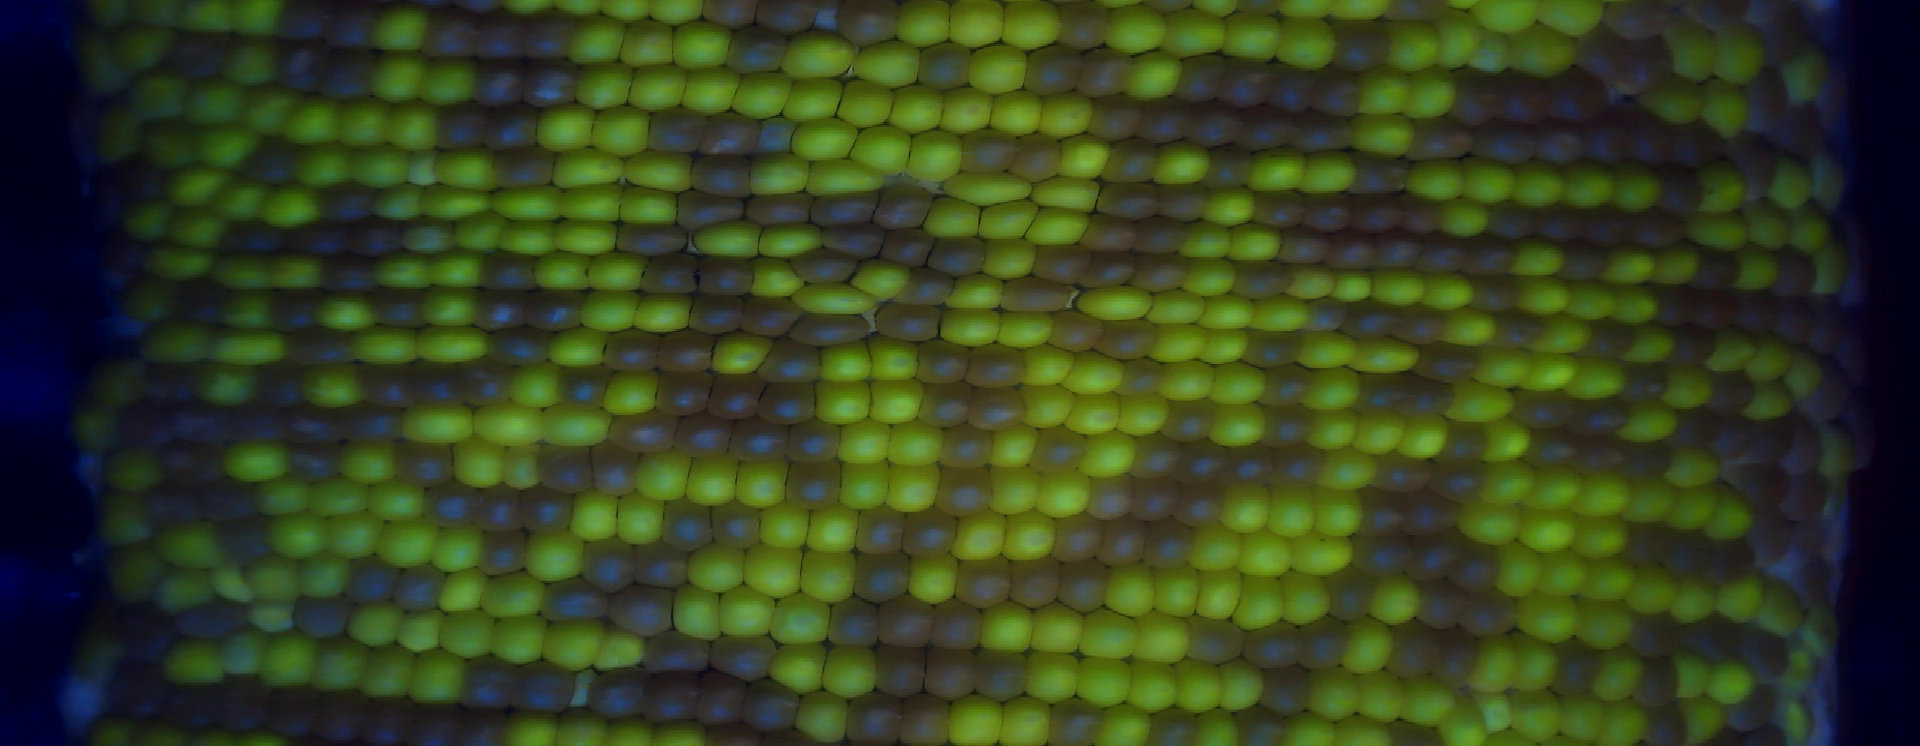fluorescent: (778, 31, 858, 80), (133, 321, 220, 366), (69, 24, 121, 98), (768, 590, 834, 647), (767, 639, 834, 695), (729, 69, 798, 121), (107, 538, 160, 605), (216, 36, 283, 88), (683, 543, 751, 595), (1158, 7, 1227, 59), (1276, 16, 1340, 71), (947, 507, 1011, 561), (522, 526, 587, 579), (1713, 21, 1769, 82), (853, 39, 922, 89), (540, 403, 613, 450), (72, 608, 119, 681), (1341, 617, 1401, 674), (377, 514, 438, 570), (742, 544, 804, 598), (718, 586, 780, 639), (804, 156, 887, 196), (207, 328, 291, 367), (309, 637, 367, 693), (633, 448, 693, 503), (967, 40, 1027, 96), (947, 692, 1008, 746), (546, 149, 627, 190), (471, 405, 550, 447), (157, 519, 227, 566), (1506, 29, 1580, 73), (1103, 6, 1169, 55), (1512, 153, 1572, 207), (1398, 675, 1458, 729), (998, 1, 1062, 51), (670, 22, 733, 72), (140, 245, 220, 284), (1695, 157, 1749, 216), (621, 153, 699, 194), (1636, 78, 1706, 124), (849, 254, 915, 301), (1513, 595, 1580, 643), (790, 281, 882, 315), (1571, 599, 1632, 650), (1053, 132, 1116, 183), (1460, 497, 1522, 548), (160, 163, 228, 209), (1349, 113, 1417, 159), (1461, 152, 1516, 208), (1123, 49, 1180, 103), (1031, 600, 1085, 658), (1611, 157, 1664, 216), (800, 552, 860, 604), (975, 601, 1035, 653), (420, 55, 481, 105), (1382, 22, 1444, 72), (678, 66, 740, 116), (114, 24, 176, 73), (301, 363, 365, 410), (942, 170, 1037, 202), (534, 104, 598, 152), (492, 610, 546, 666), (1172, 657, 1224, 714), (120, 194, 179, 245), (416, 323, 493, 363), (438, 610, 497, 661), (219, 441, 294, 481), (280, 96, 342, 145), (1783, 45, 1832, 107), (790, 119, 860, 162), (834, 419, 896, 467), (1562, 157, 1618, 211), (746, 152, 813, 196), (736, 454, 790, 510), (1280, 571, 1333, 626), (1307, 666, 1360, 722), (1075, 652, 1129, 707), (244, 85, 300, 137), (669, 588, 725, 641), (1082, 609, 1139, 661), (583, 247, 647, 294), (364, 478, 427, 524), (163, 639, 227, 686), (361, 644, 413, 702), (1522, 464, 1582, 513), (1518, 506, 1578, 555), (413, 646, 462, 706), (692, 220, 769, 258), (600, 369, 661, 416), (484, 572, 545, 620), (813, 379, 876, 425), (920, 190, 982, 236), (1404, 66, 1458, 120), (544, 619, 598, 673), (1480, 456, 1536, 508), (1233, 575, 1286, 630), (851, 125, 907, 176), (1103, 562, 1160, 614), (884, 462, 942, 512), (454, 431, 504, 489), (1134, 612, 1191, 663), (1468, 347, 1536, 390), (182, 78, 246, 124), (1031, 176, 1104, 216), (1153, 138, 1212, 187), (564, 489, 623, 538), (347, 597, 405, 646), (264, 628, 313, 687), (936, 306, 1007, 347), (1074, 287, 1155, 322), (573, 62, 638, 107), (193, 124, 262, 165), (622, 64, 691, 105), (910, 127, 961, 183), (1210, 397, 1265, 448), (1000, 508, 1056, 560), (688, 451, 740, 506), (1347, 336, 1419, 375), (867, 334, 923, 385), (593, 105, 649, 156), (190, 365, 260, 405), (1303, 147, 1360, 196), (1237, 528, 1294, 577), (1509, 635, 1558, 692), (822, 646, 879, 695), (129, 71, 187, 119), (711, 332, 775, 376), (1575, 472, 1633, 519), (1016, 382, 1076, 429), (1064, 391, 1124, 437), (885, 420, 947, 465), (978, 235, 1040, 281), (1221, 13, 1282, 59), (617, 18, 678, 64), (907, 552, 959, 606), (1026, 650, 1078, 704), (795, 690, 846, 744), (1062, 350, 1124, 394), (91, 109, 138, 167), (1668, 22, 1716, 80), (326, 512, 383, 560), (1216, 657, 1264, 714), (998, 697, 1056, 745), (263, 184, 322, 230), (348, 145, 411, 187), (398, 405, 478, 440), (267, 514, 331, 557), (1293, 330, 1360, 370), (891, 1, 951, 47), (1249, 149, 1309, 195), (1498, 537, 1543, 597), (987, 462, 1038, 514), (807, 503, 858, 556), (1434, 695, 1487, 746), (389, 99, 443, 149), (888, 82, 942, 132), (1509, 687, 1562, 737), (1356, 671, 1409, 722), (1129, 660, 1179, 714), (421, 285, 486, 327), (836, 462, 891, 511), (1704, 78, 1749, 140), (1187, 521, 1242, 570), (1092, 701, 1153, 745), (339, 98, 396, 146), (1036, 472, 1092, 519), (245, 554, 301, 601), (1351, 409, 1408, 456), (813, 337, 876, 380), (1709, 484, 1755, 543), (156, 571, 219, 612), (756, 220, 825, 258), (567, 17, 627, 61), (1113, 394, 1173, 439), (1371, 575, 1423, 626), (351, 326, 419, 365), (838, 77, 891, 126), (868, 379, 924, 425), (1768, 156, 1815, 212), (1566, 355, 1622, 402), (1319, 445, 1375, 491), (1195, 566, 1242, 622), (489, 185, 562, 220), (366, 56, 425, 100), (1447, 382, 1513, 421), (1157, 356, 1216, 401), (758, 501, 811, 550), (616, 185, 680, 225), (535, 249, 595, 292), (1472, 633, 1515, 693), (96, 492, 151, 539), (744, 256, 812, 294), (1528, 314, 1596, 352), (1079, 431, 1135, 477), (1147, 323, 1212, 363), (102, 452, 167, 491), (947, 1, 1004, 45), (1815, 418, 1858, 477), (291, 554, 350, 597), (1153, 565, 1202, 616), (1267, 485, 1315, 538), (1221, 483, 1269, 535), (1404, 160, 1471, 198), (1536, 1, 1602, 39), (785, 76, 839, 122), (1395, 414, 1449, 461), (506, 363, 566, 404), (436, 567, 491, 612), (120, 281, 184, 320), (141, 122, 197, 167), (1687, 209, 1749, 250), (418, 184, 492, 217), (580, 292, 645, 330), (1438, 307, 1502, 345), (1626, 563, 1675, 614), (1539, 546, 1588, 597), (615, 492, 664, 543), (1041, 89, 1092, 137), (1583, 554, 1635, 601), (370, 9, 429, 50), (1300, 366, 1359, 408), (1564, 277, 1618, 322), (1559, 696, 1613, 741), (432, 149, 501, 185), (552, 217, 618, 254), (334, 441, 400, 478), (1441, 9, 1482, 69), (309, 477, 369, 517), (316, 293, 380, 331), (1033, 206, 1090, 249), (1622, 401, 1679, 443), (1624, 475, 1680, 518), (1572, 514, 1629, 557), (497, 218, 558, 257), (560, 185, 621, 224), (991, 89, 1041, 137), (1664, 360, 1712, 410), (1712, 575, 1762, 622), (1594, 653, 1644, 701), (1144, 288, 1209, 325), (978, 201, 1037, 241), (1209, 365, 1267, 405), (217, 292, 279, 330), (636, 295, 696, 334), (996, 310, 1056, 349), (1360, 69, 1408, 118), (1177, 258, 1240, 295), (1678, 695, 1727, 742), (595, 624, 643, 673), (1746, 200, 1793, 250), (1671, 481, 1717, 533), (1671, 572, 1717, 624), (435, 526, 486, 571), (296, 143, 354, 184), (1522, 350, 1580, 391), (451, 209, 503, 254), (1480, 419, 1533, 463), (944, 274, 1011, 309), (1294, 535, 1353, 575), (1708, 326, 1756, 374), (253, 477, 310, 517), (1194, 327, 1253, 365), (1620, 325, 1679, 363), (1600, 243, 1656, 283), (1307, 408, 1357, 452), (1516, 276, 1572, 315), (501, 706, 557, 745), (1466, 1, 1540, 31), (1669, 443, 1722, 485), (1422, 269, 1476, 310), (943, 87, 991, 132), (1509, 236, 1564, 276), (1254, 294, 1313, 331), (1602, 701, 1651, 745), (1440, 198, 1491, 240), (375, 254, 435, 289), (1198, 293, 1258, 328), (1731, 245, 1777, 292), (1315, 490, 1360, 537), (1022, 342, 1070, 386), (1708, 663, 1756, 707), (216, 252, 271, 290), (272, 252, 327, 290), (1226, 223, 1281, 261), (1202, 187, 1258, 225), (1751, 332, 1791, 383), (1280, 712, 1340, 746), (1742, 379, 1788, 424), (1179, 220, 1233, 258), (1371, 269, 1429, 305), (545, 330, 606, 363), (1671, 649, 1711, 701), (556, 706, 607, 745), (1798, 605, 1837, 657), (429, 251, 485, 287), (501, 443, 545, 489), (1789, 205, 1829, 254), (228, 1, 285, 36), (1332, 717, 1398, 746), (1653, 240, 1696, 285), (992, 423, 1035, 468), (1611, 285, 1662, 323), (1813, 240, 1847, 298), (1778, 695, 1815, 746), (96, 363, 142, 403), (1788, 345, 1821, 401), (223, 181, 268, 220), (402, 611, 447, 650), (375, 184, 422, 220), (1195, 708, 1240, 746), (73, 408, 114, 450), (1477, 29, 1515, 73), (216, 563, 256, 604), (1477, 693, 1518, 733), (180, 1, 231, 32), (602, 717, 655, 746), (651, 718, 707, 745), (249, 601, 296, 632), (1330, 269, 1374, 303), (647, 1, 702, 26), (91, 715, 133, 746), (1331, 1, 1392, 22), (135, 720, 184, 746), (131, 1, 178, 27), (599, 1, 653, 23), (84, 1, 130, 27), (1275, 1, 1335, 20), (1784, 647, 1815, 682), (1484, 729, 1542, 746), (195, 729, 241, 746), (501, 1, 557, 15), (1189, 1, 1239, 16), (556, 1, 602, 15), (1545, 736, 1600, 746), (1103, 1, 1142, 7)
nonfluorescent: (1716, 454, 1791, 510), (585, 668, 658, 722), (609, 584, 680, 637), (509, 658, 572, 717), (118, 601, 178, 661), (822, 592, 883, 650), (953, 556, 1016, 611), (458, 655, 522, 710), (639, 671, 704, 725), (638, 630, 714, 675), (1386, 616, 1440, 680), (1614, 39, 1674, 96), (579, 535, 639, 592), (1446, 64, 1500, 126), (966, 380, 1030, 432), (1240, 619, 1305, 670), (1327, 16, 1393, 66), (394, 435, 460, 485), (842, 691, 902, 746), (756, 336, 823, 385), (534, 441, 595, 495), (1021, 44, 1085, 96), (1367, 448, 1435, 496), (1182, 615, 1247, 665), (606, 412, 682, 454), (644, 107, 714, 153), (1573, 22, 1630, 80), (973, 647, 1030, 704), (1044, 507, 1103, 562), (107, 664, 165, 719), (1498, 65, 1551, 125), (262, 685, 322, 739), (934, 464, 996, 517), (707, 633, 778, 679), (1599, 1, 1681, 40), (540, 578, 612, 622), (1053, 557, 1109, 614), (516, 7, 573, 62), (1548, 638, 1603, 696), (1138, 511, 1191, 570), (784, 457, 842, 511), (587, 439, 640, 497), (742, 677, 801, 731), (174, 600, 255, 639), (1411, 339, 1480, 385), (1456, 586, 1517, 637), (601, 325, 669, 371), (1551, 67, 1608, 122), (901, 503, 958, 559), (852, 546, 909, 601), (923, 644, 977, 702), (1682, 612, 1747, 660), (1239, 323, 1309, 367), (432, 100, 493, 151), (997, 274, 1075, 314), (632, 539, 694, 588), (874, 597, 937, 646), (1469, 118, 1537, 163), (1098, 137, 1162, 185), (964, 341, 1027, 388), (1296, 612, 1351, 668), (1449, 537, 1502, 593), (393, 559, 449, 612), (313, 688, 366, 746), (661, 492, 713, 551), (697, 670, 747, 730), (214, 673, 264, 733), (419, 9, 480, 58), (1391, 372, 1452, 421), (653, 330, 719, 375), (654, 367, 716, 415), (958, 131, 1025, 175), (525, 285, 593, 330), (1220, 54, 1272, 110), (322, 48, 378, 100), (1255, 664, 1311, 717), (637, 250, 702, 295), (140, 356, 204, 402), (484, 103, 544, 152), (1839, 303, 1873, 388), (808, 189, 883, 228), (911, 336, 972, 383), (280, 327, 360, 364), (727, 415, 793, 459), (898, 692, 951, 746), (1404, 530, 1460, 583), (710, 496, 763, 551), (160, 679, 217, 730), (754, 380, 822, 423), (1401, 491, 1464, 537), (1007, 131, 1067, 179), (144, 478, 204, 526), (1291, 107, 1356, 151), (1227, 258, 1296, 300), (932, 598, 984, 652), (115, 398, 170, 450), (219, 514, 274, 566), (358, 695, 413, 746), (1086, 96, 1149, 141), (1742, 621, 1788, 684), (1075, 47, 1131, 97), (1009, 554, 1059, 610), (1505, 387, 1575, 428), (702, 108, 760, 156), (1731, 135, 1776, 198), (1404, 118, 1472, 159), (486, 325, 553, 366), (1348, 370, 1408, 416), (673, 187, 747, 225), (152, 439, 217, 481), (876, 644, 927, 698), (1136, 93, 1191, 143), (707, 367, 762, 418), (407, 696, 462, 746), (1325, 562, 1374, 619), (1627, 608, 1684, 657), (835, 1, 898, 45), (1780, 464, 1828, 522), (1761, 10, 1807, 69), (411, 358, 470, 404), (691, 152, 754, 195), (787, 311, 873, 343), (673, 413, 737, 456), (876, 300, 943, 341), (295, 594, 355, 639), (478, 481, 530, 533), (473, 10, 527, 60), (852, 502, 906, 552), (478, 250, 542, 292), (367, 285, 432, 327), (787, 246, 861, 283), (1031, 239, 1092, 283), (1098, 317, 1160, 361), (354, 361, 415, 405), (1128, 431, 1183, 480), (1097, 511, 1146, 566), (202, 477, 263, 521), (917, 42, 973, 89), (727, 27, 784, 75), (742, 293, 798, 341), (1354, 481, 1402, 538), (1188, 100, 1245, 147), (1749, 507, 1791, 570), (1774, 292, 1820, 350), (252, 360, 311, 405), (424, 480, 482, 526), (1840, 391, 1876, 465), (1745, 71, 1787, 135), (1349, 537, 1413, 578), (1779, 104, 1823, 164), (519, 62, 579, 107), (279, 402, 339, 446), (1172, 51, 1224, 102), (1240, 102, 1296, 149), (493, 146, 555, 189), (924, 234, 989, 274), (786, 418, 842, 464), (1031, 426, 1087, 473), (1270, 442, 1326, 489), (820, 220, 889, 258), (694, 256, 757, 298), (1434, 419, 1493, 463), (277, 44, 327, 96), (522, 481, 572, 533), (1627, 657, 1680, 706), (168, 401, 228, 443), (1434, 628, 1477, 688), (1056, 1, 1111, 48), (1663, 403, 1718, 450), (1221, 441, 1276, 488), (1046, 699, 1101, 746), (887, 268, 961, 303), (1199, 145, 1255, 190), (1258, 363, 1314, 408), (613, 223, 691, 256), (1096, 179, 1161, 218), (169, 33, 227, 77), (1051, 307, 1108, 352), (873, 186, 936, 227), (1128, 251, 1190, 292), (1311, 66, 1362, 116), (1731, 287, 1780, 338), (173, 276, 225, 323), (920, 380, 972, 428), (1704, 530, 1752, 583), (1418, 576, 1466, 628), (1251, 186, 1311, 228), (471, 289, 531, 331), (1573, 320, 1637, 359), (223, 403, 287, 442), (473, 62, 529, 107), (1258, 402, 1314, 446), (334, 405, 407, 440), (1267, 64, 1318, 113), (245, 135, 296, 183), (1693, 281, 1741, 332), (1723, 684, 1776, 730), (1427, 457, 1489, 496), (269, 285, 323, 331), (1663, 526, 1708, 579), (344, 560, 399, 604), (1520, 431, 1580, 472), (1413, 232, 1469, 274), (1229, 706, 1291, 745), (744, 191, 814, 225), (558, 364, 610, 410), (940, 423, 993, 468), (1348, 153, 1407, 194), (348, 216, 407, 256), (1127, 477, 1180, 521), (1078, 212, 1138, 251), (1671, 124, 1728, 165), (1089, 472, 1136, 521), (478, 529, 527, 577), (1303, 187, 1353, 234), (1707, 366, 1753, 416), (1179, 439, 1229, 485), (1164, 396, 1216, 441), (1351, 191, 1408, 232), (1172, 481, 1224, 526), (688, 292, 742, 334), (462, 359, 516, 402), (283, 442, 342, 481), (1146, 706, 1205, 745), (1346, 296, 1401, 338), (1572, 436, 1632, 474), (1572, 396, 1629, 436), (1375, 225, 1425, 271), (1582, 203, 1633, 247), (1080, 245, 1131, 289), (1811, 292, 1843, 363), (111, 158, 164, 201), (326, 9, 380, 50), (883, 224, 938, 265), (287, 222, 349, 257), (1771, 246, 1815, 296), (1558, 238, 1609, 281), (320, 255, 380, 292), (1277, 224, 1331, 265), (1622, 519, 1669, 566), (1692, 246, 1740, 292), (1658, 167, 1701, 217), (1491, 307, 1542, 350), (220, 219, 285, 252), (1633, 206, 1685, 247), (1397, 303, 1449, 344), (1783, 415, 1821, 472), (453, 708, 509, 746), (320, 181, 373, 220), (1667, 321, 1714, 365), (1133, 216, 1185, 255), (1329, 228, 1378, 269), (1529, 124, 1584, 160), (1680, 1, 1749, 31), (1622, 442, 1674, 481), (1798, 375, 1842, 420), (1622, 358, 1665, 404), (754, 1, 817, 33), (272, 9, 334, 40), (1464, 234, 1513, 274), (1116, 356, 1164, 397), (1794, 552, 1831, 606), (1752, 414, 1791, 464), (1586, 118, 1629, 163), (1487, 201, 1539, 238), (1630, 119, 1674, 162), (1467, 277, 1518, 314), (1712, 412, 1749, 463), (1402, 195, 1446, 236), (1536, 207, 1584, 243), (1157, 183, 1206, 218), (1385, 718, 1449, 745), (1302, 296, 1349, 332), (104, 232, 142, 273), (1644, 708, 1686, 746), (1659, 283, 1696, 326), (1385, 1, 1453, 23), (700, 722, 763, 745), (1791, 514, 1824, 555), (700, 1, 759, 23), (760, 729, 811, 746), (1740, 725, 1780, 746), (451, 1, 508, 15), (1234, 1, 1283, 15), (1141, 1, 1191, 11), (413, 1, 448, 12)
